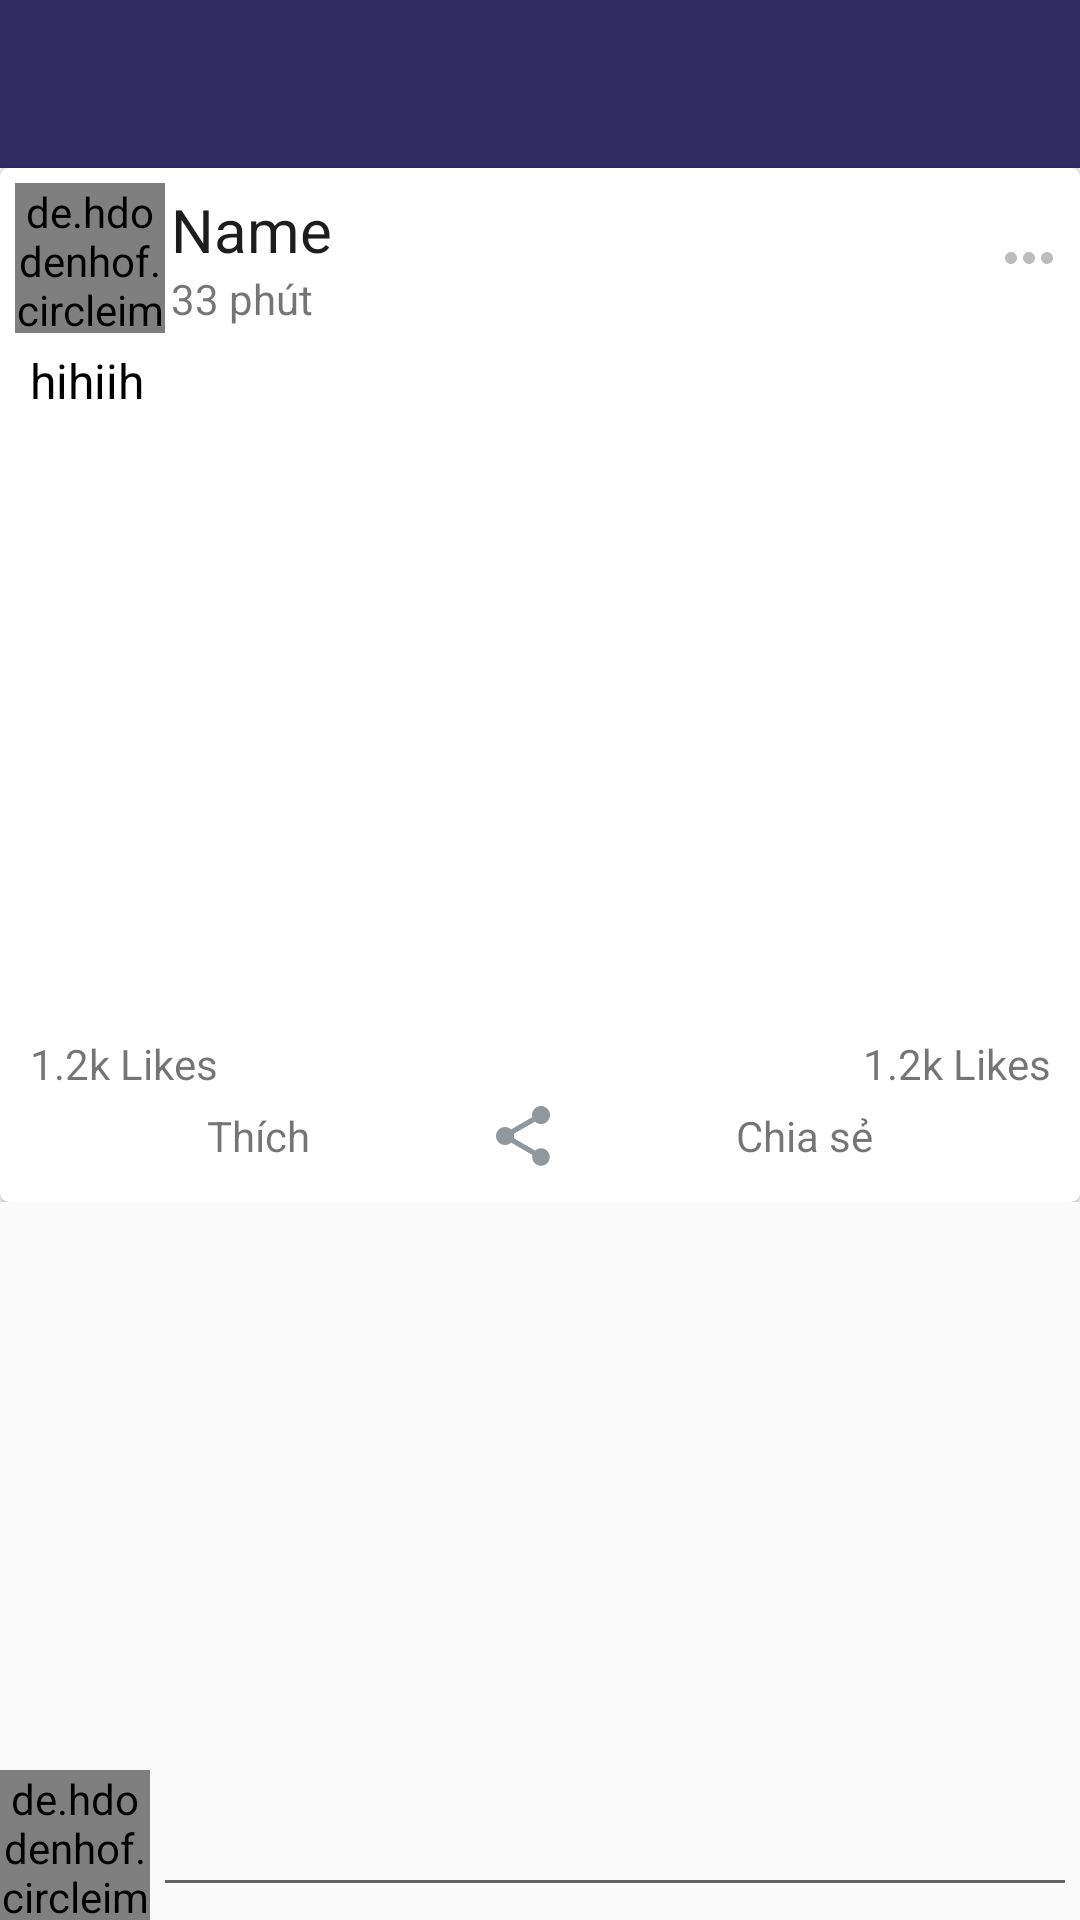

Icons on this 1080 × 1920 Android screen, each with the point to tap as (x,y):
more horiz: (1029,258)
